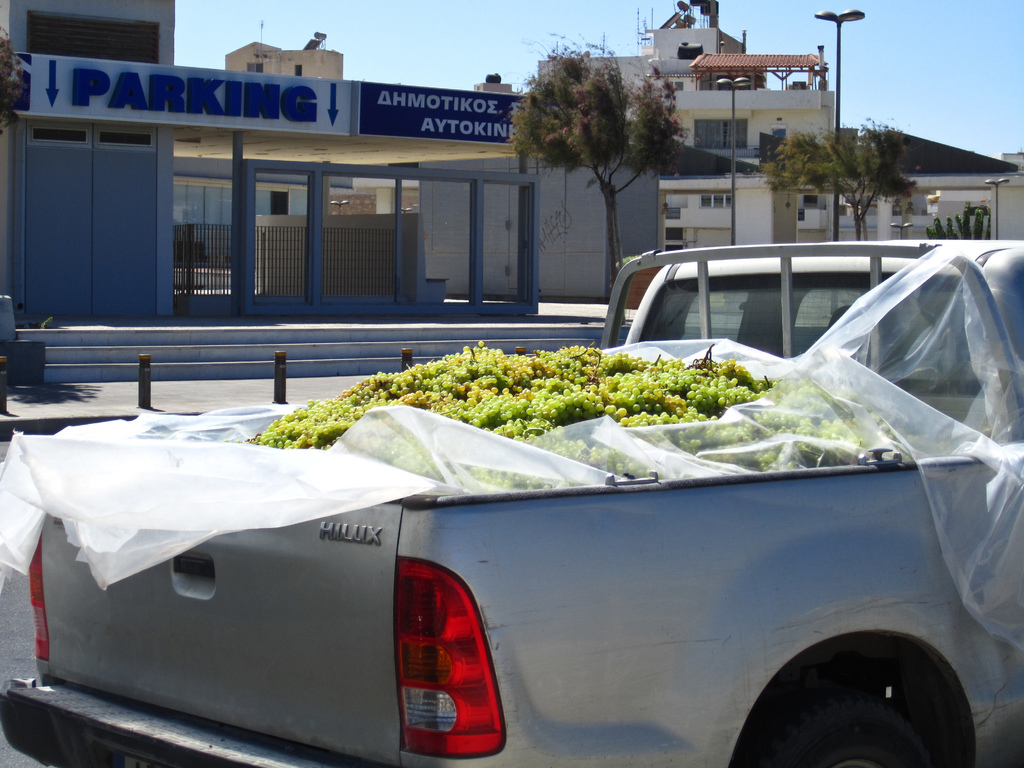Car: (0, 245, 1023, 767)
